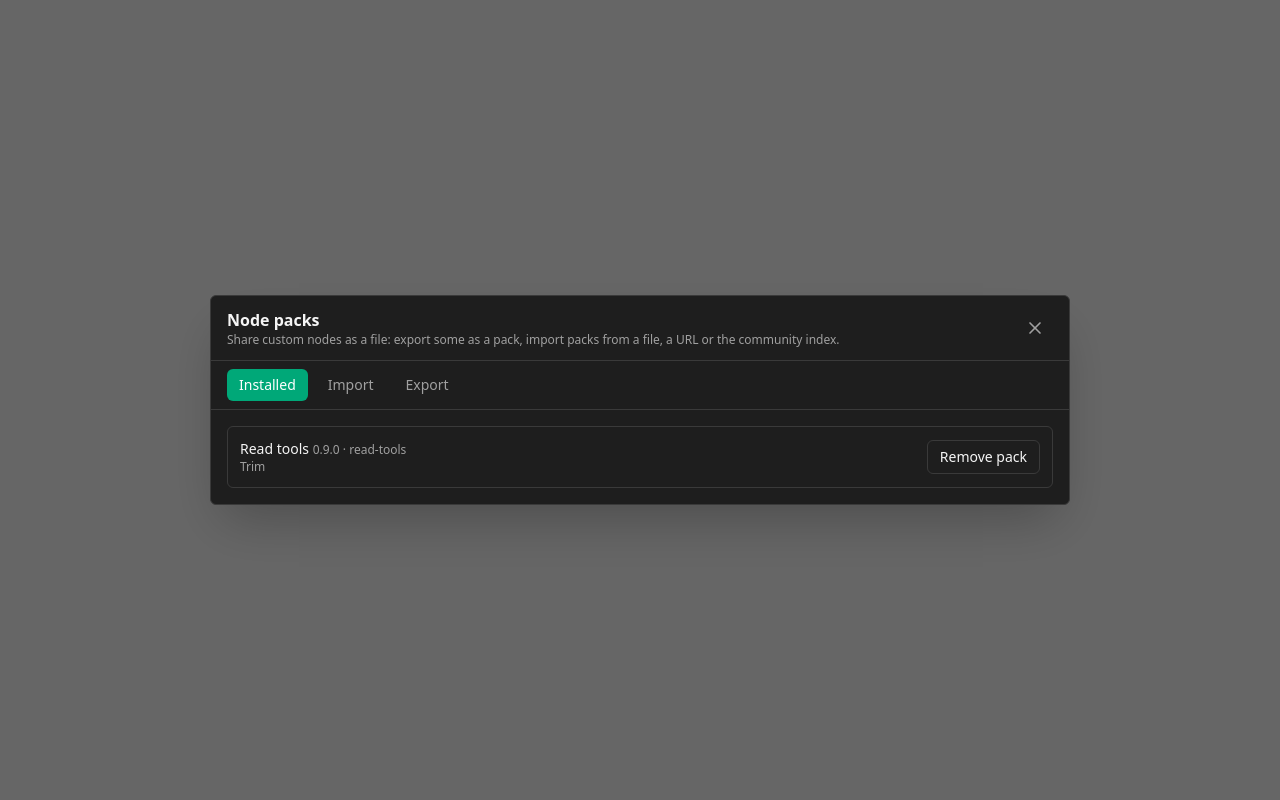
Scenario: NodePacksModal › installed › shows why a pack couldn't be removed
Click the button with aria-label "Remove Read tools": click(983, 457) [927,440,1040,474]
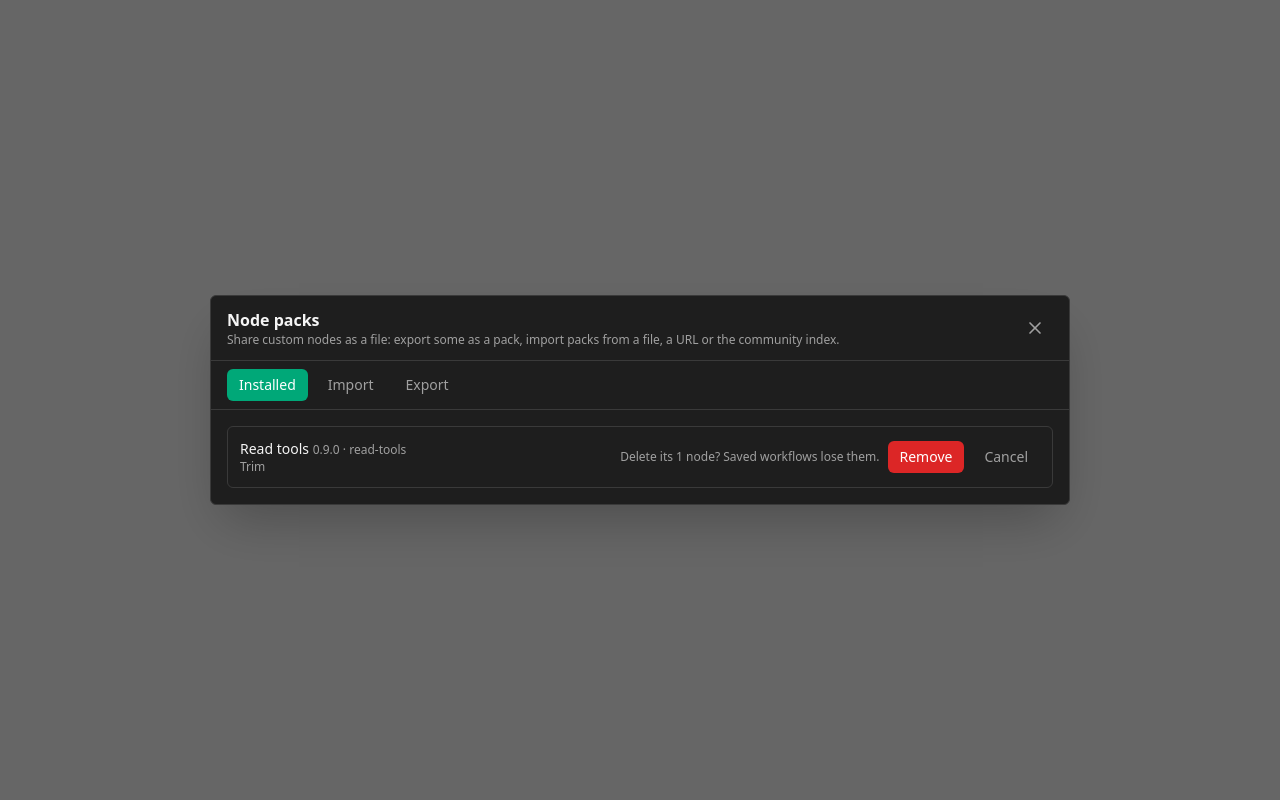
Click the button "Remove": click(926, 457) [888,441,964,473]
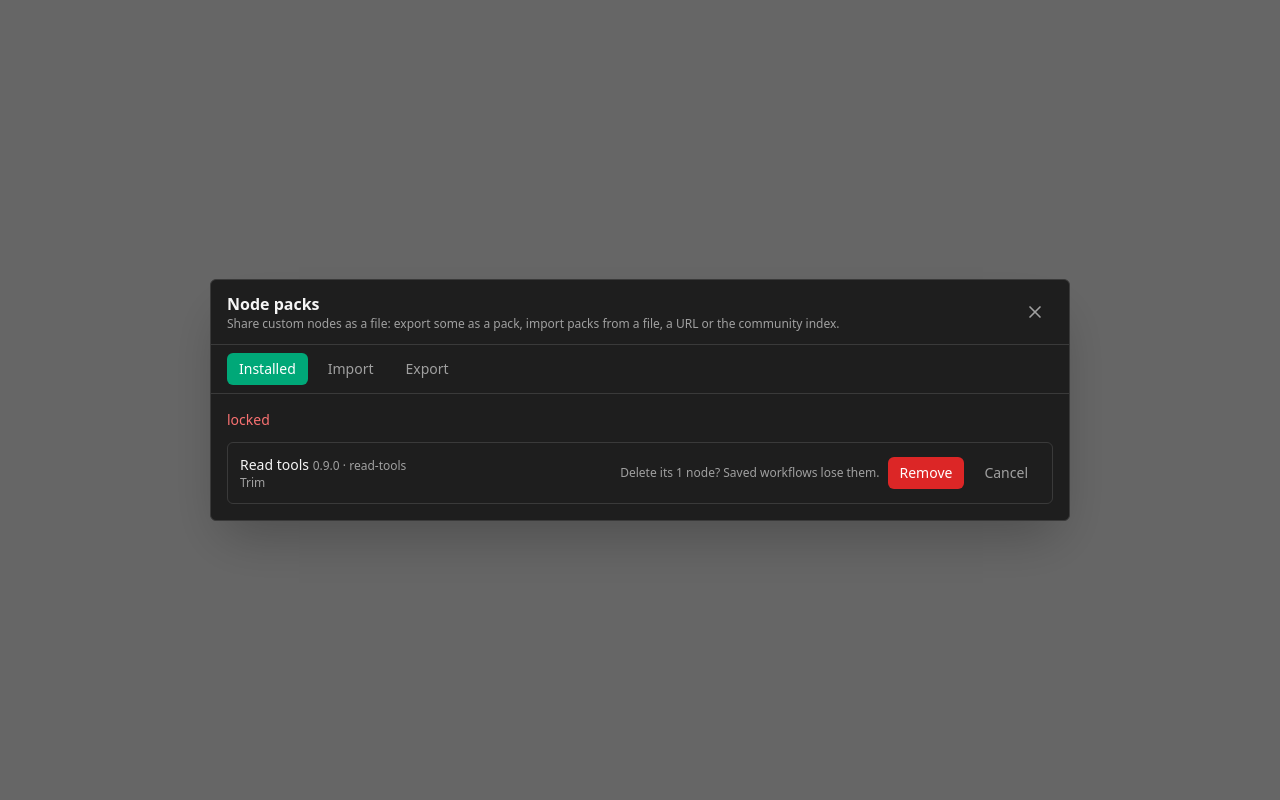
Expected: the message reads "locked", [227,410,270,429]
